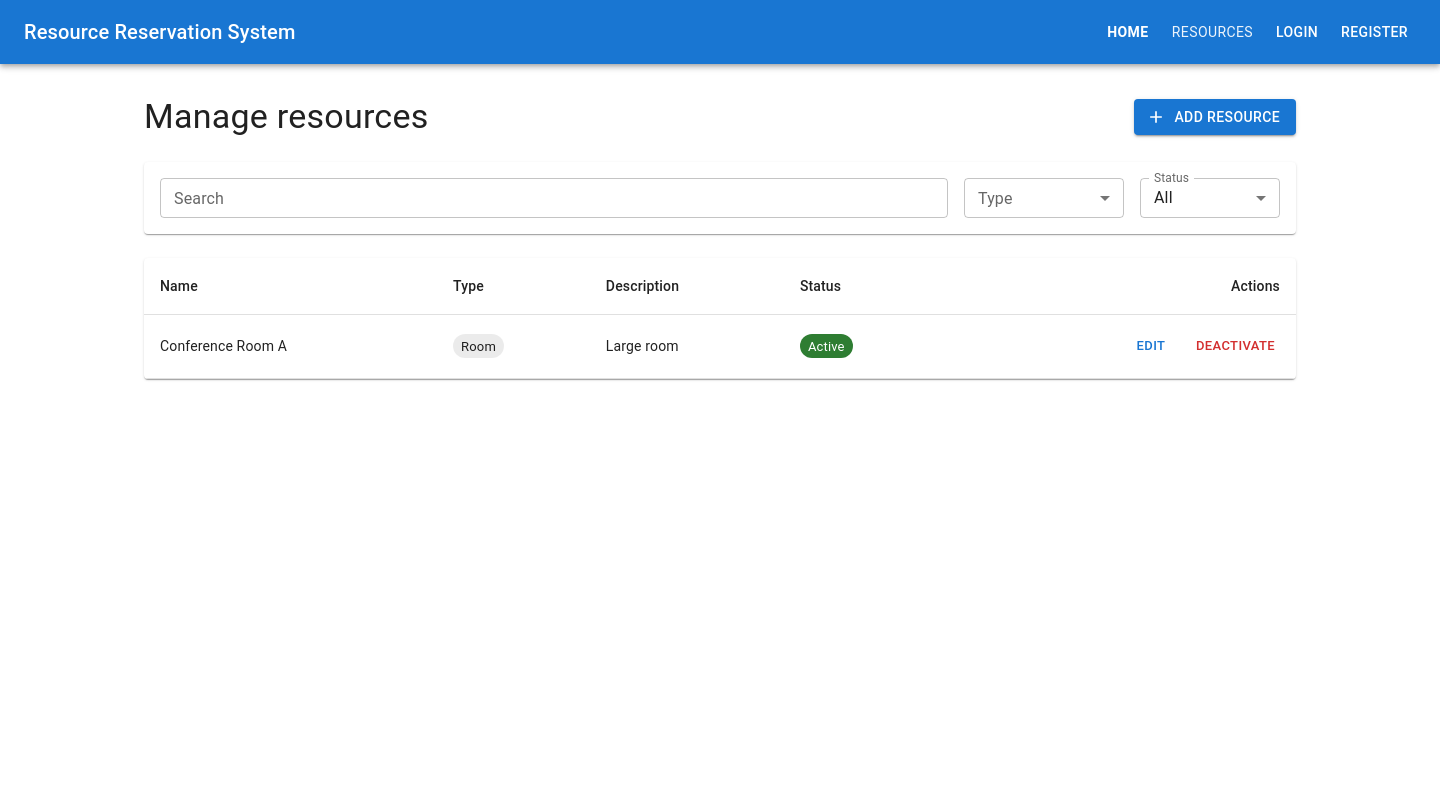
AdminResourcesPage › opens add resource dialog
Expected: the text "Conference Room A" is shown, [144,314,437,378]
Click the button "Add resource".
click(1215, 117)  # box [1134,99,1296,135]
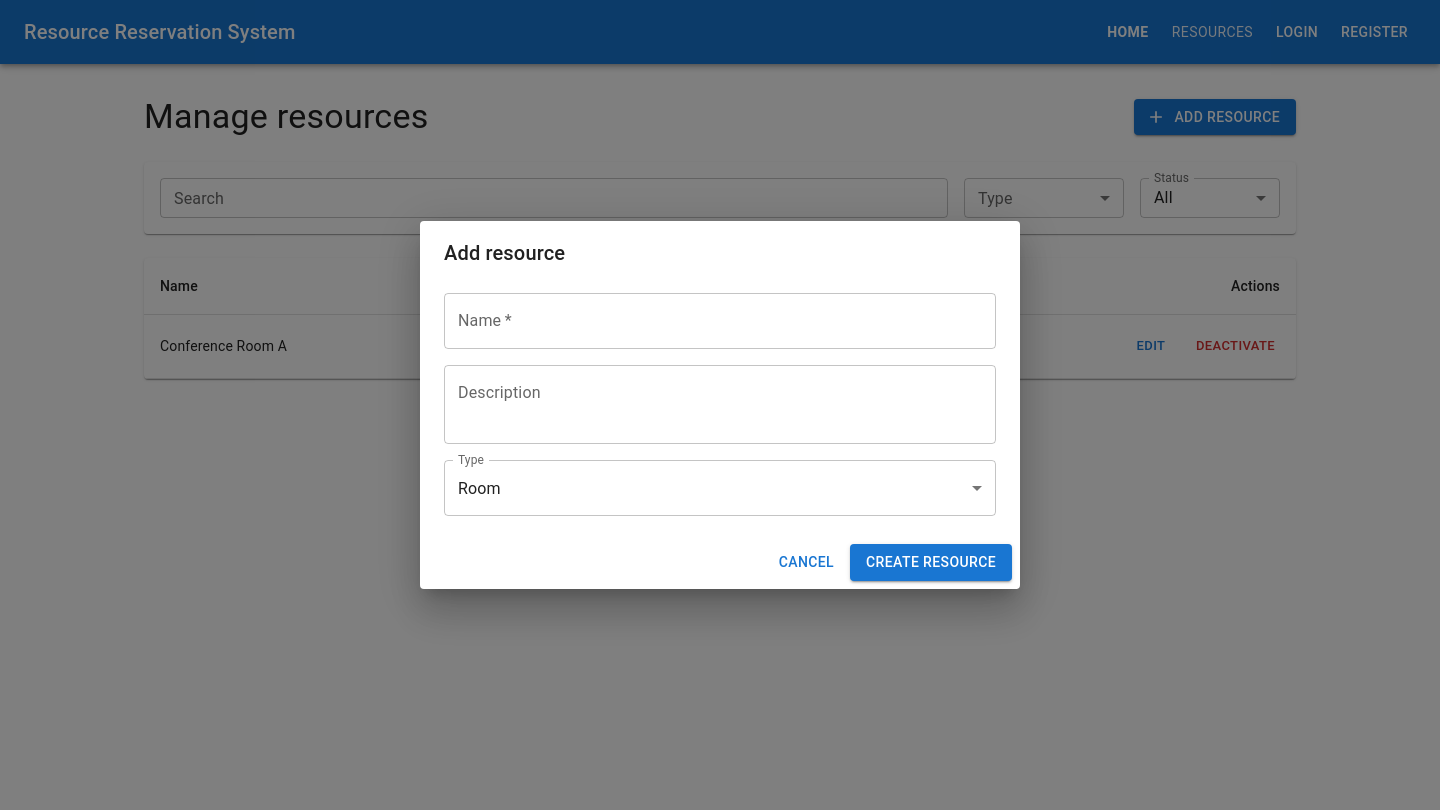
Expected: the heading "Add resource" is shown, [444,241,565,265]
